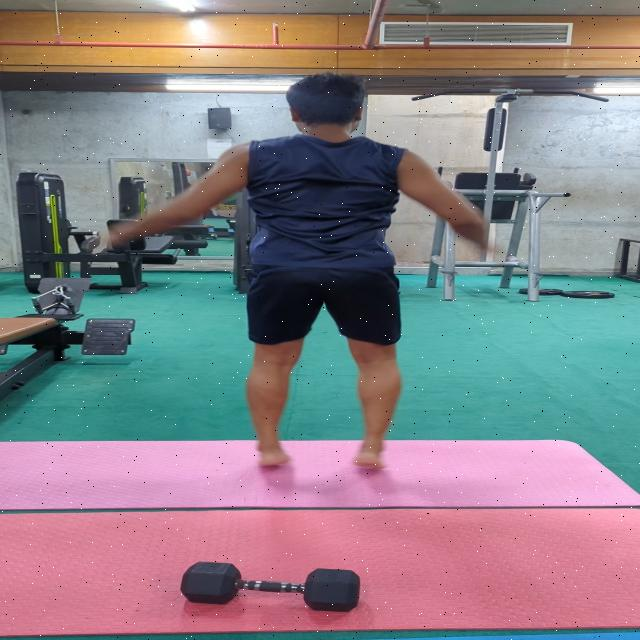Normal_JumpingJacks: (100, 60, 502, 464)
